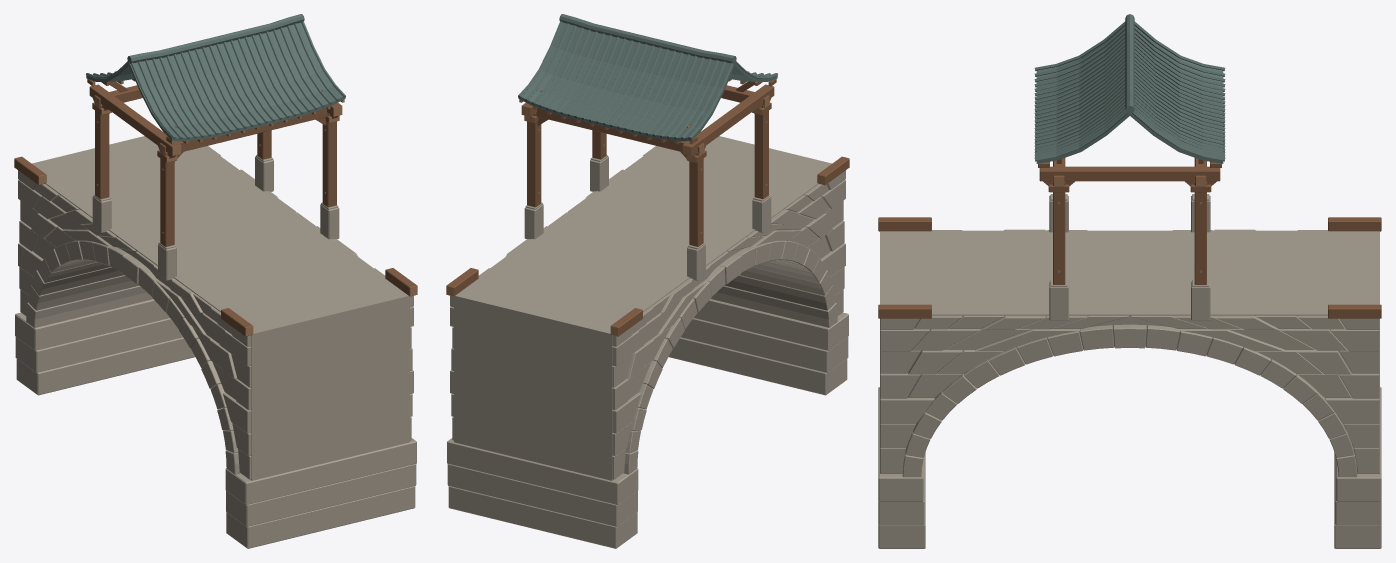
File: CH2_GorgeBridge.fbx
3 views of the same model, side by side, from view 1: azimuth 30°, elevation 25°; view 2: azimuth 150°, elevation 25°; view 3: azimuth 270°, elevation 25° (orthographic). The views are drawn at different scales.
Parts seen in each view (by area): view 1: GorgeBridge_LOD0; view 2: GorgeBridge_LOD0; view 3: GorgeBridge_LOD0.
Boxes of the visible parts, <box> form: GorgeBridge_LOD0: <box>14,14,417,548</box>; GorgeBridge_LOD0: <box>446,14,849,548</box>; GorgeBridge_LOD0: <box>878,14,1381,548</box>.
Size of what is drawn, in the model's own units: 5.2 by 11.7 by 12.
